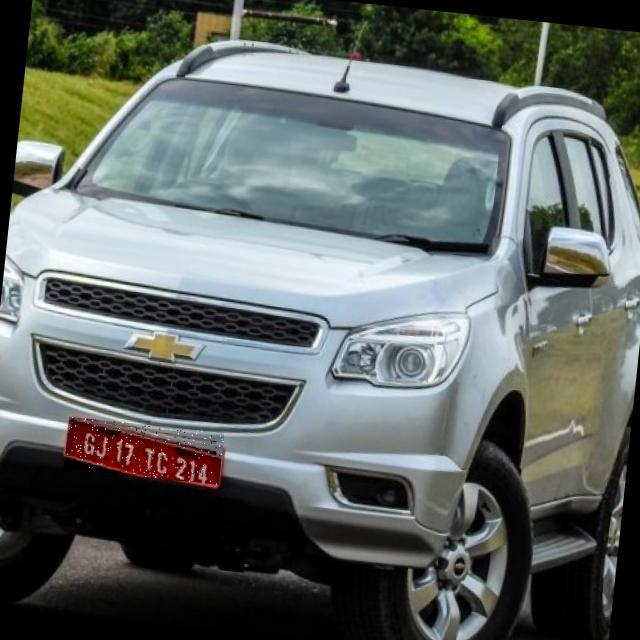Plate: (64, 418, 225, 486)
